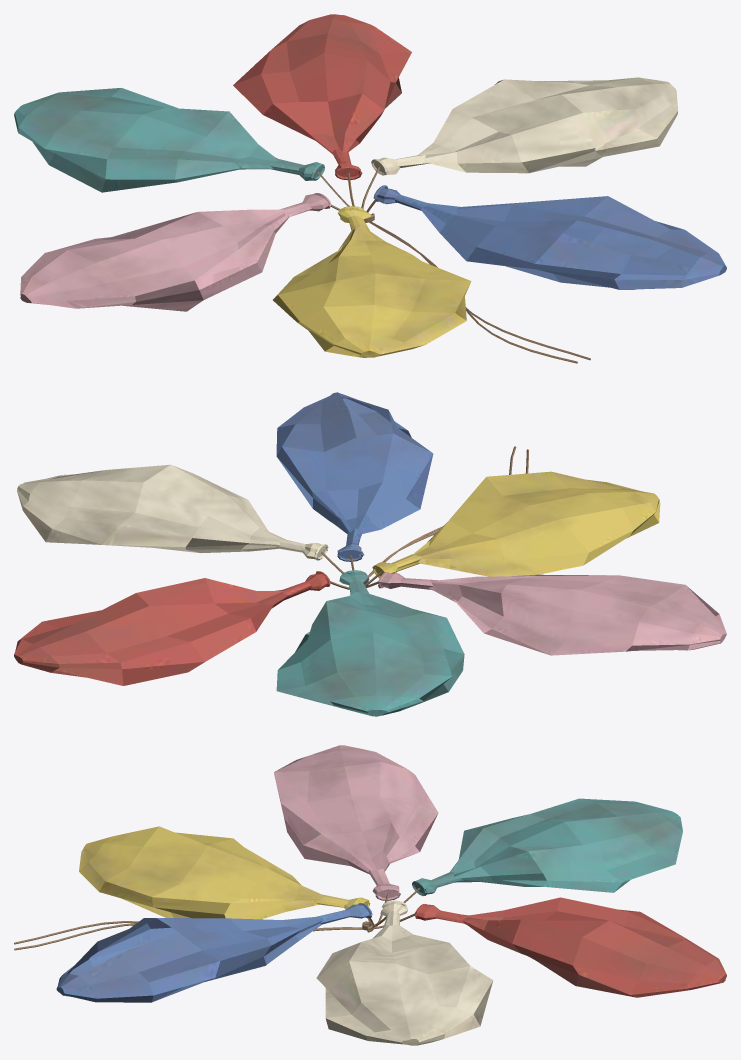
File: C10_balloon_bunch.glb
The picture shows the model from 3 angles, top to bottom: view 1: azimuth 30°, elevation 25°; view 2: azimuth 150°, elevation 25°; view 3: azimuth 270°, elevation 25°; orthographic projection. The views are drawn at different scales.
Visible parts, largest first — view 1: Collapsed balloon 00; view 2: Collapsed balloon 00; view 3: Collapsed balloon 00.
Boxes of the visible parts, left/top/right/bottom form: Collapsed balloon 00: left=14, top=14, right=726, bottom=363; Collapsed balloon 00: left=14, top=392, right=726, bottom=716; Collapsed balloon 00: left=14, top=745, right=726, bottom=1045.
Bounding box in the file's own units: 1 × 0.111 × 0.9731.
Materials: 7 (7 with a texture image).
